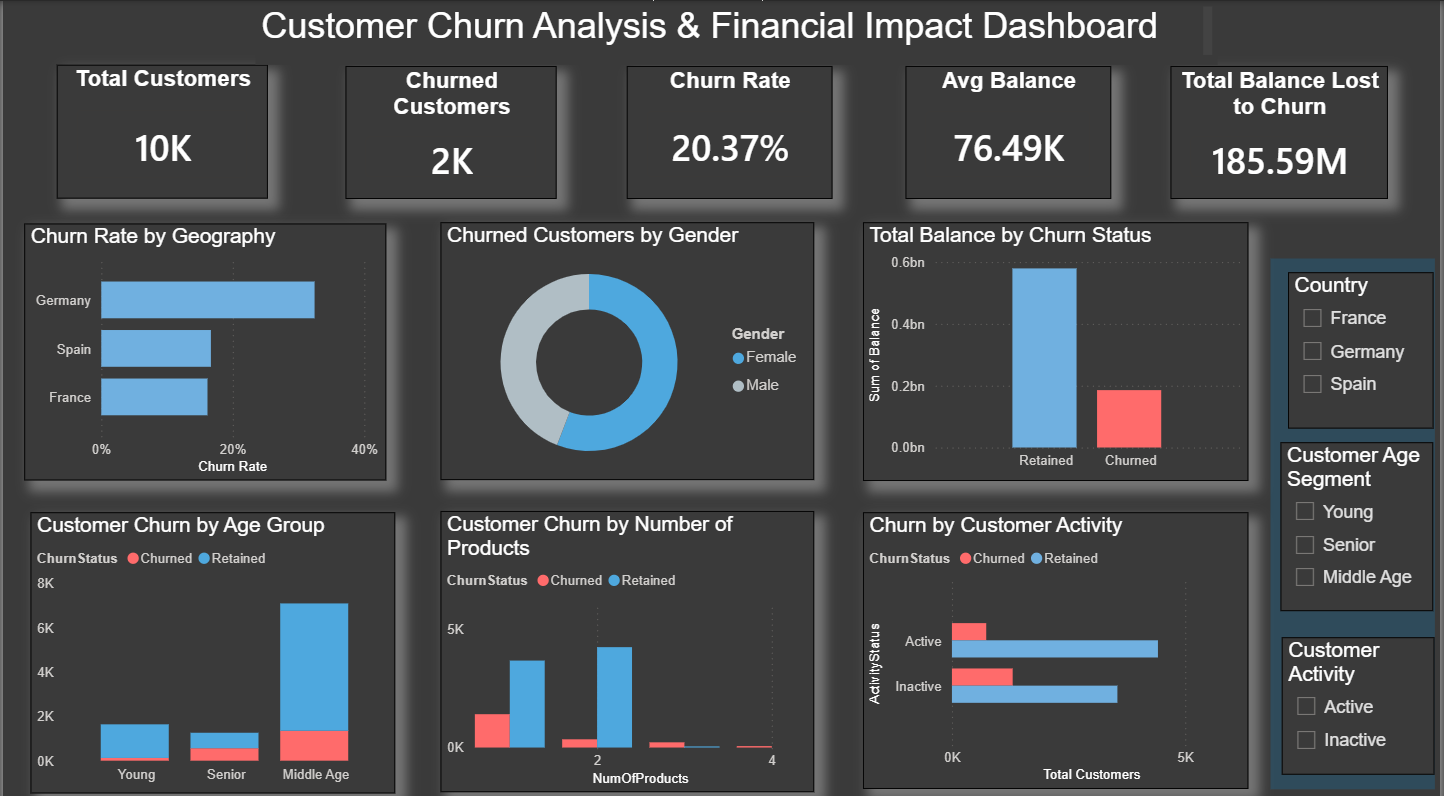

The dashboard page shown, as its layout file describes it:
{"tool":"powerbi","page":{"name":"Page 1","canvas":[1280,720],"ordinal":0},"visuals":[{"type":"shape","box":[1128.6,229.9,146.8,472.7],"z":0},{"type":"cardVisual","title":"Total Customers","fields":{"Data":["churn_data.Total Customers"]},"box":[48.1,57.1,188.3,119.5],"z":1000},{"type":"cardVisual","title":"Churned Customers","fields":{"Data":["churn_data.Churned Customers"]},"box":[305.2,58.4,188.3,118.2],"z":2000},{"type":"cardVisual","title":"Churn Rate","fields":{"Data":["churn_data.Churn Rate"]},"box":[555.8,58.4,183.1,118.2],"z":3000},{"type":"cardVisual","title":"Avg Balance","fields":{"Data":["churn_data.Avg Balance"]},"box":[803.9,58.4,183.1,118.2],"z":4000},{"type":"clusteredBarChart","fields":{"Category":["churn_data.Geography"],"Y":["churn_data.Churn Rate"]},"box":[18.7,197.8,322.2,228.9],"z":5000},{"type":"donutChart","fields":{"Category":["churn_data.Gender"],"Y":["churn_data.Churned Customers"]},"box":[389.6,197.4,332.5,229.9],"z":6000},{"type":"clusteredColumnChart","title":"Customer Churn by Number of Products","fields":{"Y":["churn_data.Total Customers"],"Category":["churn_data.NumOfProducts"],"Series":["churn_data.ChurnStatus"]},"box":[389.6,454.5,332.5,250.6],"z":7000},{"type":"columnChart","title":"Customer Churn by Age Group","fields":{"Category":["churn_data.AgeGroup"],"Series":["churn_data.ChurnStatus"],"Y":["churn_data.Total Customers"]},"box":[24.7,455.8,324.7,250.6],"z":8000},{"type":"clusteredBarChart","title":"Churn by Customer Activity","fields":{"Category":["churn_data.ActivityStatus"],"Series":["churn_data.ChurnStatus"],"Y":["churn_data.Total Customers"]},"box":[766.2,455.8,342.9,246.8],"z":9000},{"type":"clusteredColumnChart","title":"Total Balance by Churn Status","fields":{"Category":["churn_data.ChurnStatus"],"Y":["Sum(churn_data.Balance)"]},"box":[766,197,343,230],"z":10000},{"type":"cardVisual","title":"Total Balance Lost to Churn","fields":{"Data":["churn_data.Churned Balance"]},"box":[1040.3,58.4,193.5,118.2],"z":11000},{"type":"slicer","title":"Country","fields":{"Values":["churn_data.Geography"]},"box":[1144.2,241.6,129.9,139],"z":12000},{"type":"slicer","title":"Customer Age Segment","fields":{"Values":["churn_data.AgeGroup"]},"box":[1137.7,393.5,136.4,150.6],"z":13000},{"type":"slicer","title":"Customer Activity","fields":{"Values":["churn_data.ActivityStatus"]},"box":[1139,566.2,136.4,122.1],"z":14000},{"type":"textbox","box":[224.7,0,857.1,57.1],"z":15000}]}

Visuals, with their boxes in screenshot pixels (x1, y1, x2, y2), scaled from the page's 1280x720 canvas onto the 1444x796 screenshot:
shape: [1273, 254, 1439, 777]
"Total Customers" cardVisual: [54, 63, 267, 195]
"Churned Customers" cardVisual: [344, 65, 557, 195]
"Churn Rate" cardVisual: [627, 65, 834, 195]
"Avg Balance" cardVisual: [907, 65, 1113, 195]
clusteredBarChart - churn_data.Geography x churn_data.Churn Rate: [21, 219, 385, 472]
donutChart - churn_data.Gender x churn_data.Churned Customers: [440, 218, 815, 472]
"Customer Churn by Number of Products" clusteredColumnChart: [440, 502, 815, 780]
"Customer Churn by Age Group" columnChart: [28, 504, 394, 781]
"Churn by Customer Activity" clusteredBarChart: [864, 504, 1251, 777]
"Total Balance by Churn Status" clusteredColumnChart: [864, 218, 1251, 472]
"Total Balance Lost to Churn" cardVisual: [1174, 65, 1392, 195]
"Country" slicer: [1291, 267, 1437, 421]
"Customer Age Segment" slicer: [1283, 435, 1437, 602]
"Customer Activity" slicer: [1285, 626, 1439, 761]
textbox: [253, 0, 1220, 63]
